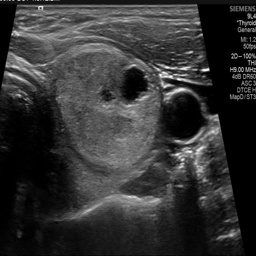mass: (56, 50, 159, 165)
